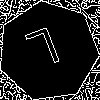L: (23, 26, 66, 79)
